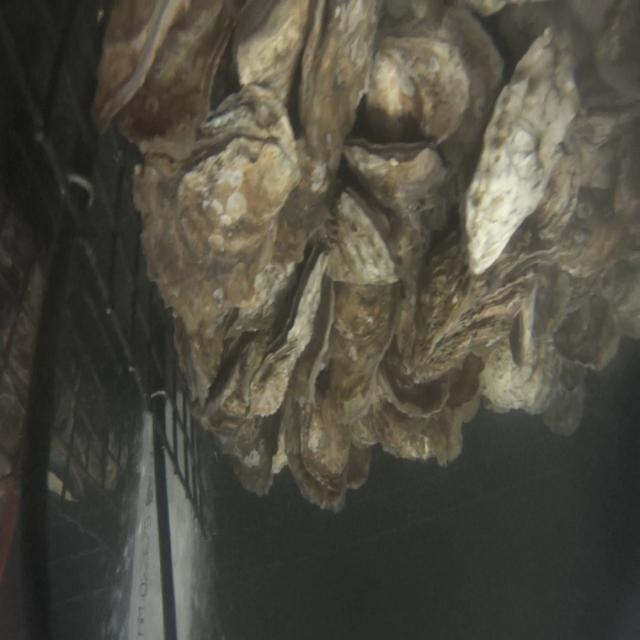Oyster-Closed: (117, 80, 340, 407), (437, 17, 603, 288), (366, 38, 469, 142), (329, 193, 398, 284), (595, 0, 640, 100)
Oyster-Open: (239, 246, 345, 425), (365, 343, 460, 429), (285, 400, 351, 510), (227, 433, 290, 500)
